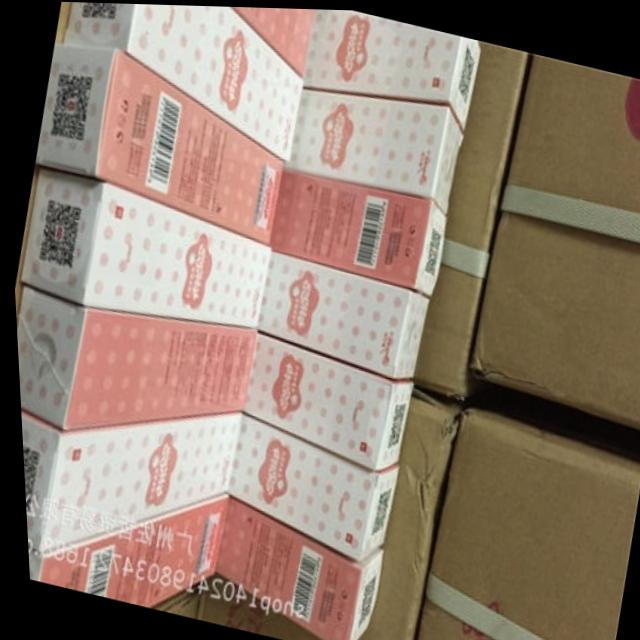box: (466, 50, 640, 426), (407, 373, 640, 640), (34, 45, 281, 241), (408, 38, 533, 402), (17, 165, 267, 325), (62, 2, 301, 160), (13, 282, 250, 430), (17, 409, 235, 555), (349, 384, 460, 640), (236, 326, 409, 476), (210, 492, 379, 640), (222, 414, 395, 557), (280, 84, 463, 212), (22, 491, 223, 606), (267, 166, 442, 295), (300, 7, 482, 129), (252, 249, 425, 377), (191, 573, 321, 640), (231, 5, 314, 75), (146, 578, 200, 617)
